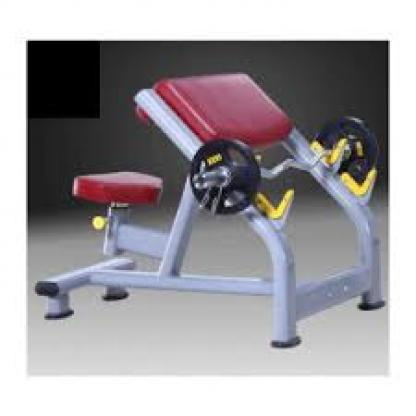arm curl machine: (34, 71, 385, 349)
